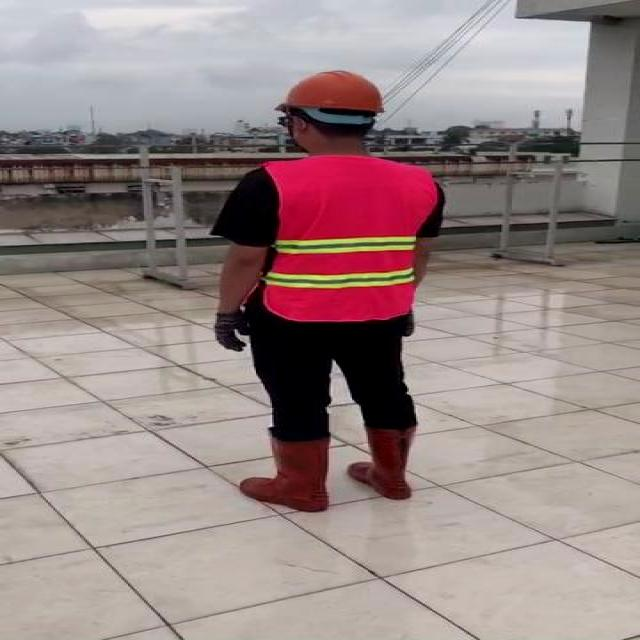boots: (244, 432, 330, 515), (345, 424, 425, 503)
hand_glove: (210, 313, 256, 355)
head_helmet: (269, 70, 385, 114)
person: (194, 65, 450, 520)
vest: (256, 155, 437, 319)
